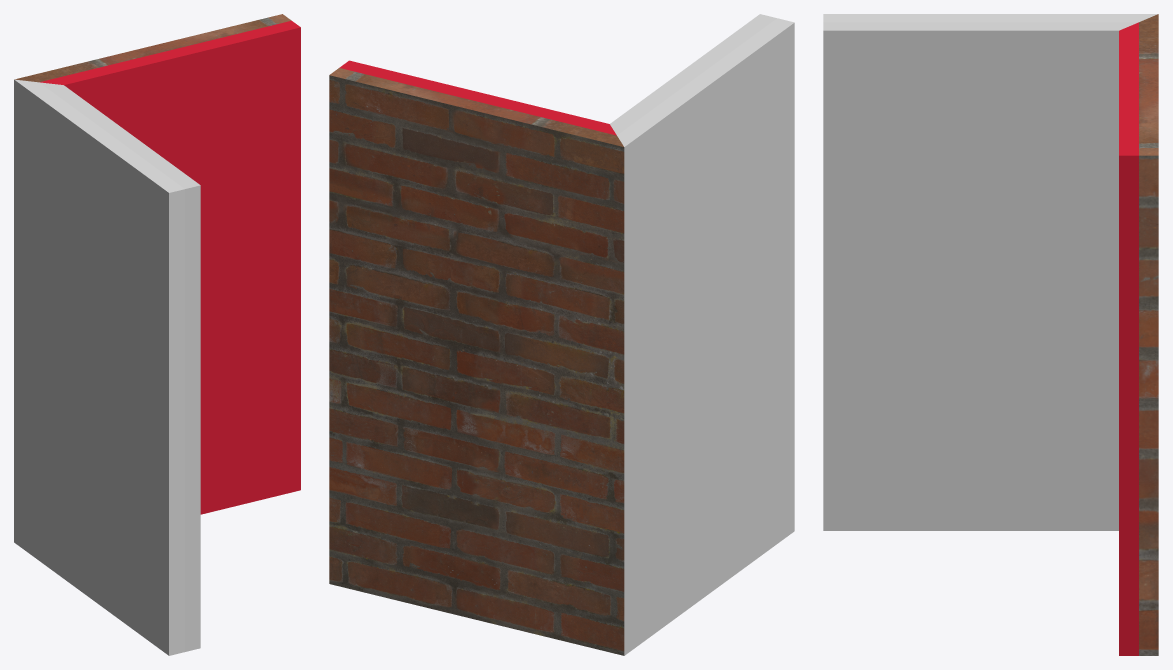
The model's file is Corner_Wall_complete.fbx.
3 views of the same model, side by side, from view 1: azimuth 30°, elevation 25°; view 2: azimuth 150°, elevation 25°; view 3: azimuth 270°, elevation 25° (orthographic). The views are drawn at different scales.
Parts seen in each view (by area): view 1: Corner Wall; view 2: Corner Wall; view 3: Corner Wall.
Boxes of the visible parts, x1,y1,x2,y2 form: Corner Wall: [14, 14, 300, 655]; Corner Wall: [329, 14, 794, 655]; Corner Wall: [823, 14, 1158, 655].
Bounding box in the file's own units: 425 × 700 × 425.
